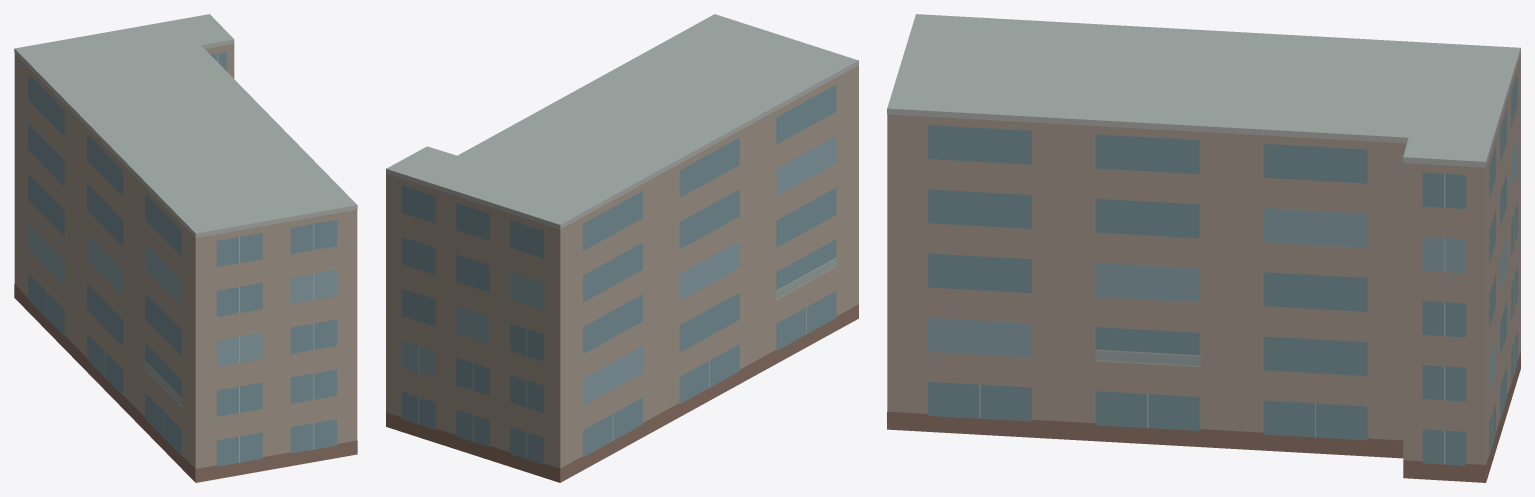
Rendered from survey-upis-32659432.glb.
3 renders of one model, left to right at view 1: azimuth 30°, elevation 25°; view 2: azimuth 150°, elevation 25°; view 3: azimuth 270°, elevation 25°, orthographic. The views are drawn at different scales.
Visible parts, largest first — view 1: survey-upis-32659432.tmp; view 2: survey-upis-32659432.tmp; view 3: survey-upis-32659432.tmp.
Part boxes in pixels (x1,y1,x2,y2): survey-upis-32659432.tmp: (14,14,357,482); survey-upis-32659432.tmp: (386,14,858,482); survey-upis-32659432.tmp: (887,14,1520,482).
Bounding box in the file's own units: 13.4 × 13.55 × 24.26.
